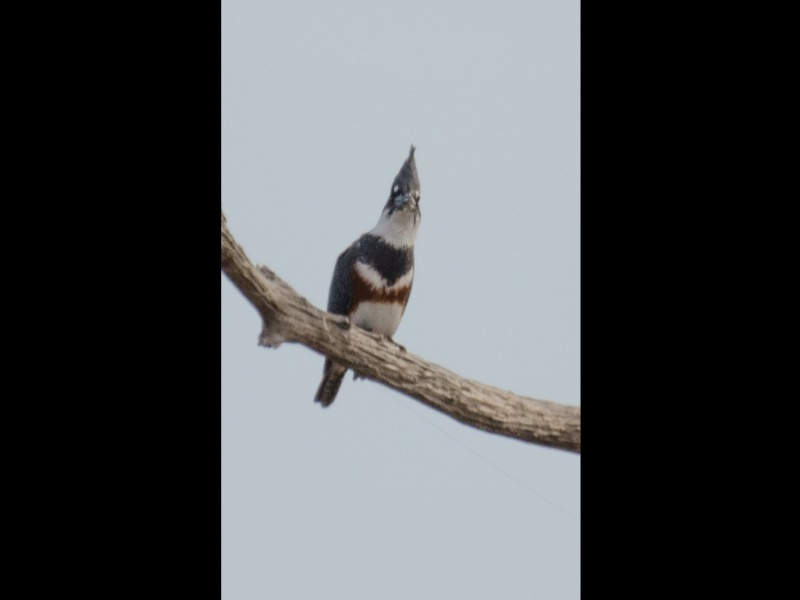kingfisher: (312, 139, 422, 408)
